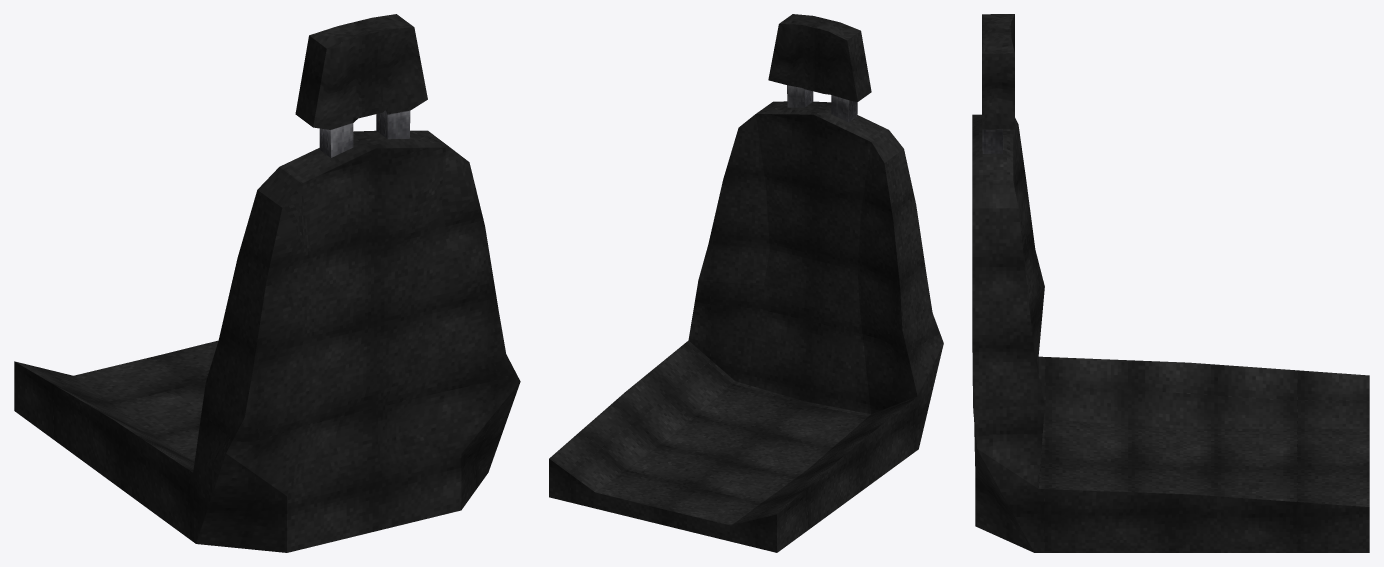
Rendered from CarSeat.glb.
The picture shows the model from 3 angles, left to right: view 1: azimuth 30°, elevation 25°; view 2: azimuth 150°, elevation 25°; view 3: azimuth 270°, elevation 25°; orthographic projection. The views are drawn at different scales.
Visible parts, largest first — view 1: pCube1; view 2: pCube1; view 3: pCube1.
Boxes of the visible parts, <box> form: pCube1: <box>14,14,520,552</box>; pCube1: <box>549,14,943,552</box>; pCube1: <box>972,14,1369,552</box>.
Bounding box in the file's own units: 1.03 × 1.66 × 1.31.
Materials: 1 (1 with a texture image).
